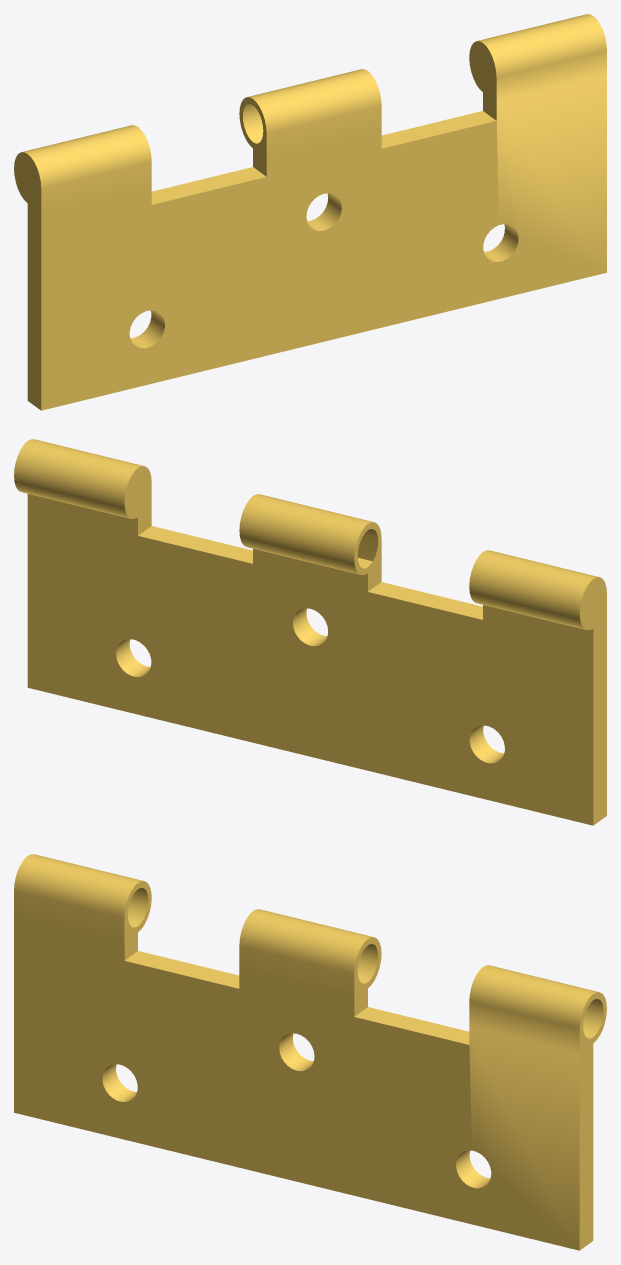
Rendered from original-30.obj.
3 renders of one model, top to bottom at view 1: azimuth 30°, elevation 25°; view 2: azimuth 150°, elevation 25°; view 3: azimuth 330°, elevation 25°, orthographic.
Parts seen in each view (by area): view 1: Group2/mesh31/mesh31-geometry#mesh31-geometry; view 2: Group2/mesh31/mesh31-geometry#mesh31-geometry; view 3: Group2/mesh31/mesh31-geometry#mesh31-geometry.
Boxes of the visible parts, left/top/right/bottom form: Group2/mesh31/mesh31-geometry#mesh31-geometry: left=14, top=14, right=606, bottom=410; Group2/mesh31/mesh31-geometry#mesh31-geometry: left=14, top=439, right=606, bottom=825; Group2/mesh31/mesh31-geometry#mesh31-geometry: left=14, top=854, right=606, bottom=1250.
Size of the model in its own units: 0.0874 by 0.0364 by 0.0073.
